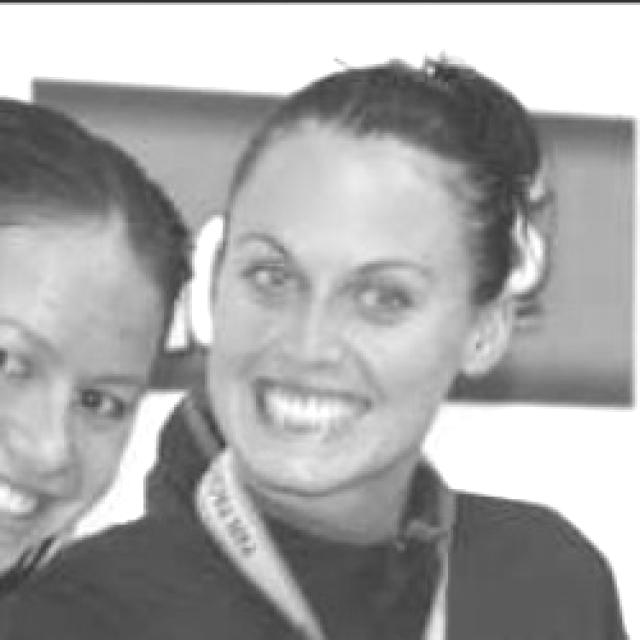real: (208, 124, 470, 490), (3, 137, 176, 567), (235, 246, 423, 326), (0, 336, 135, 435)
